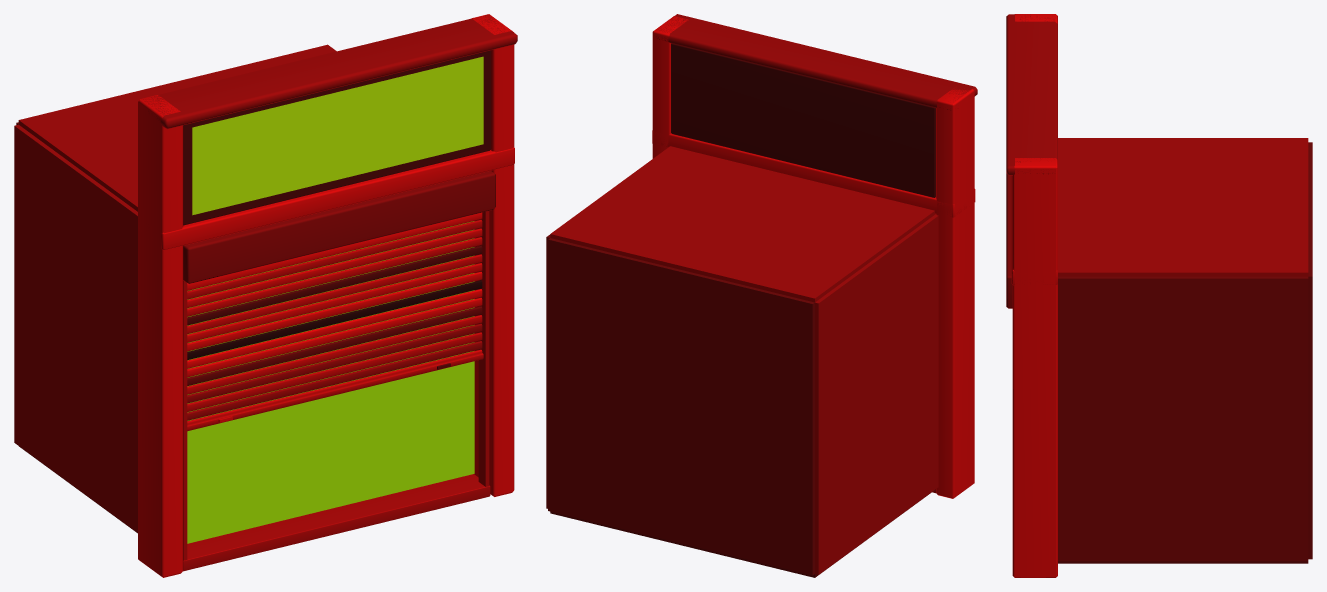
The model's file is shop_shutter_half.glb.
The picture shows the model from 3 angles, left to right: view 1: azimuth 30°, elevation 25°; view 2: azimuth 150°, elevation 25°; view 3: azimuth 270°, elevation 25°; orthographic projection. The views are drawn at different scales.
Parts seen in each view (by area): view 1: shop_shutter_half; view 2: shop_shutter_half; view 3: shop_shutter_half.
Part boxes in pixels (x1,y1,x2,y2): shop_shutter_half: (14, 14, 517, 577); shop_shutter_half: (546, 14, 977, 577); shop_shutter_half: (1006, 14, 1312, 577).
Size of the model in its own units: 4 by 5 by 3.37.
